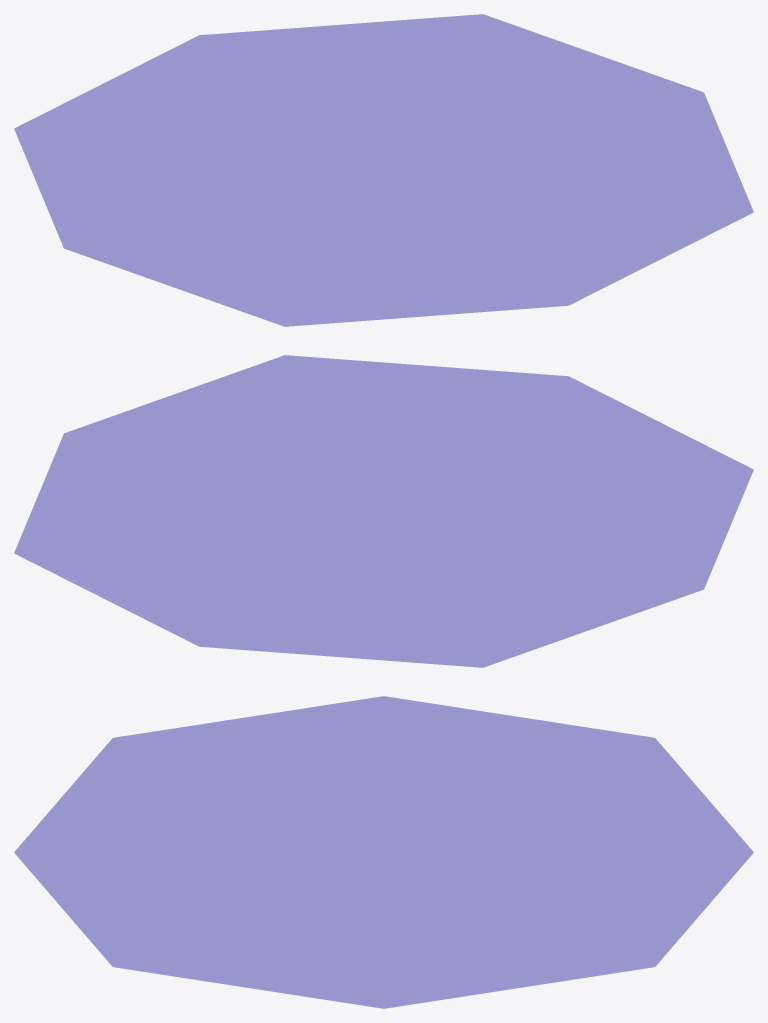
The model's file is hopi_civic_centre.dae.
3 renders of one model, top to bottom at view 1: azimuth 30°, elevation 25°; view 2: azimuth 150°, elevation 25°; view 3: azimuth 270°, elevation 25°, orthographic.
Visible parts, largest first — view 1: Plane; view 2: Plane; view 3: Plane.
Part boxes in pixels (x1,y1,x2,y2): Plane: (14,14,753,326); Plane: (14,355,753,667); Plane: (14,696,753,1008).
Size of the model in its own units: 3.95 by 3.95 by 0.
